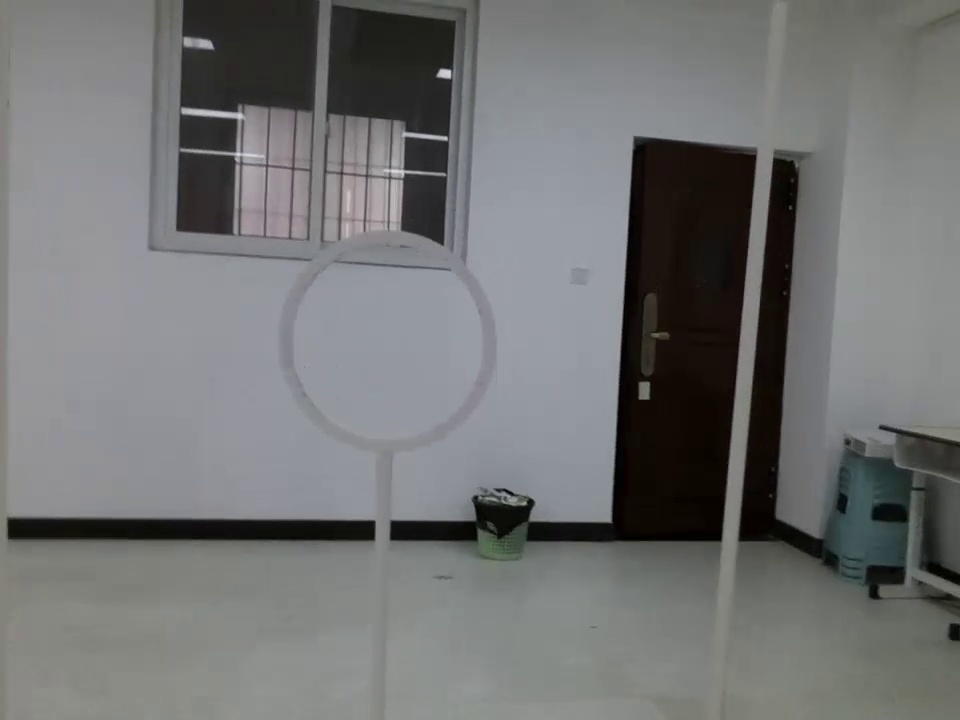quan: (258, 225, 497, 484)
